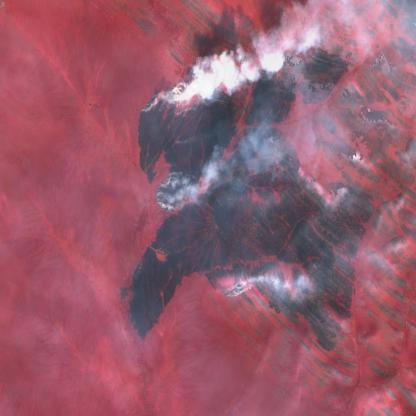fire: (138, 67, 209, 224), (221, 275, 252, 307)
